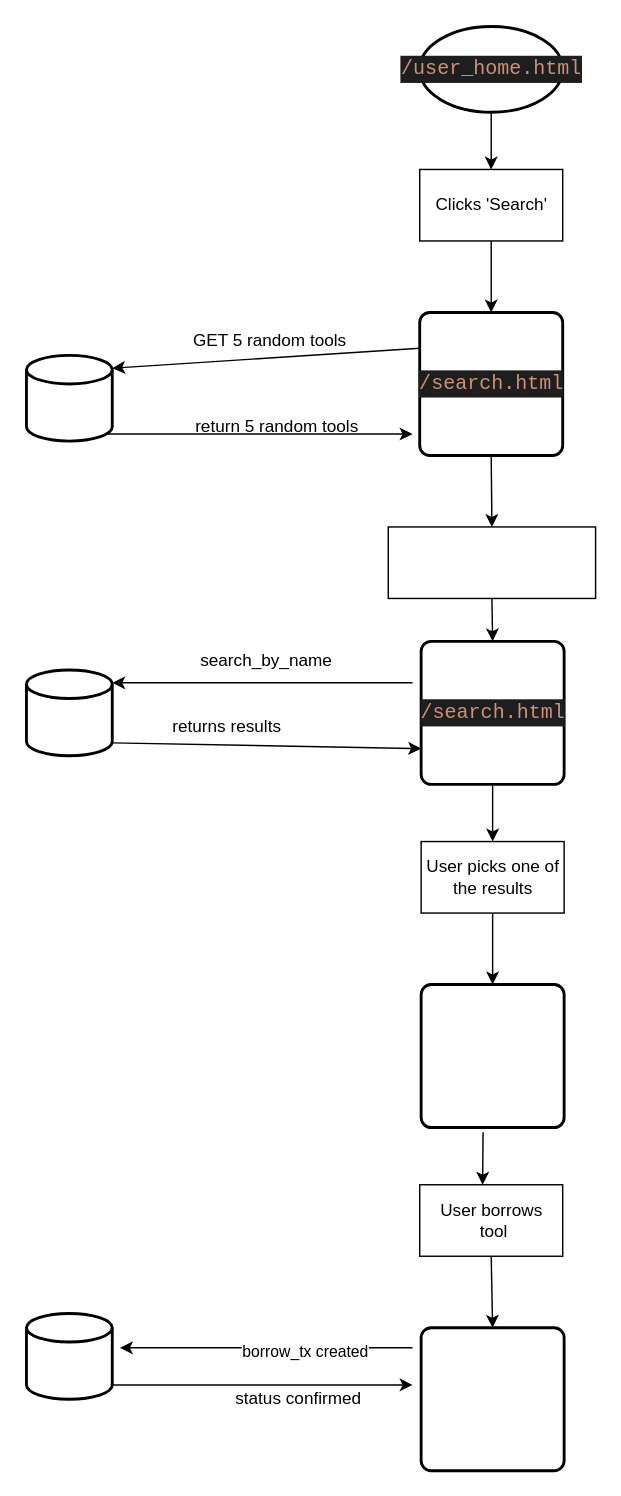
Image size: 621x1496. Some labels were removed from this diagram. The shapes that lost their labels are listed below. From the top down, each one's centre as x and y in pixels, then its label:
At [491,562]: "Enters search term Cordless Drill".
At [492,1055]: "/tool_home.html".
At [492,1398]: "/success.html".
